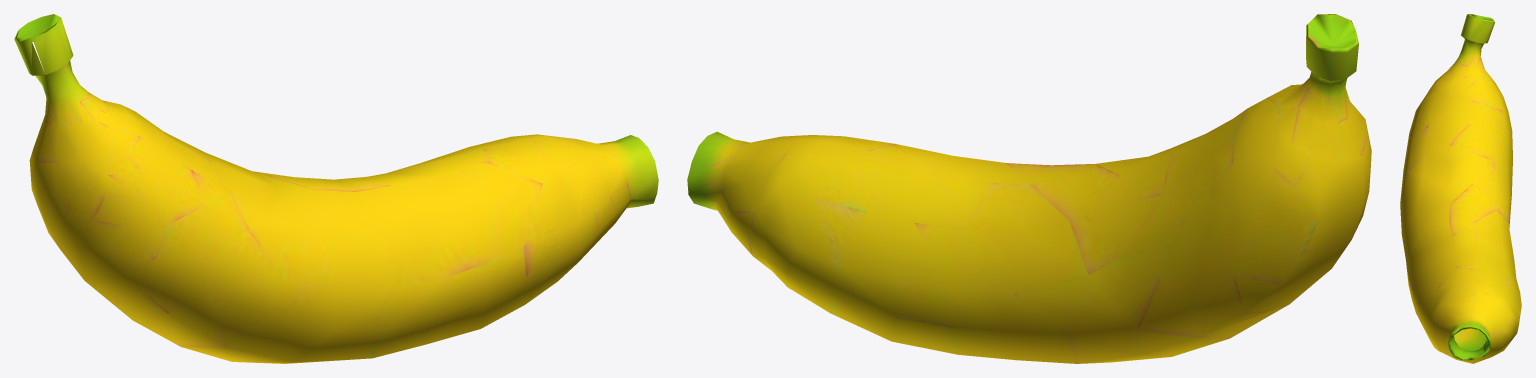
File: banana.glb
3 views of the same model, side by side, from view 1: azimuth 30°, elevation 25°; view 2: azimuth 150°, elevation 25°; view 3: azimuth 270°, elevation 25° (orthographic). The views are drawn at different scales.
Visible parts, largest first — view 1: banana; view 2: banana; view 3: banana.
Boxes of the visible parts, <box> form: banana: <box>14,14,658,363</box>; banana: <box>687,14,1371,363</box>; banana: <box>1400,14,1521,363</box>.
Size of the model in its own units: 0.2488 by 0.1554 by 0.0744.
1 material, 1 textured.
